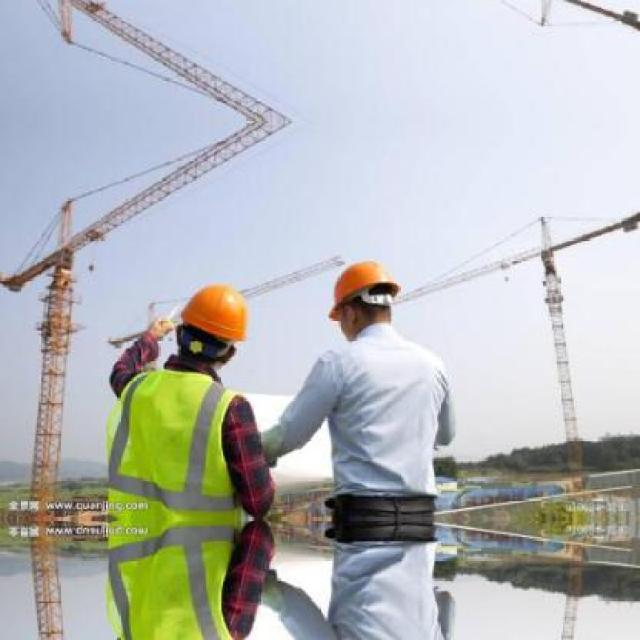helmet: (171, 274, 254, 372), (324, 250, 404, 344)
